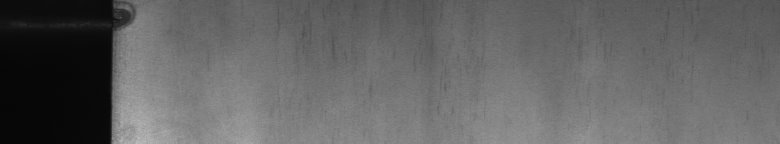hb: (120, 4, 144, 42)
